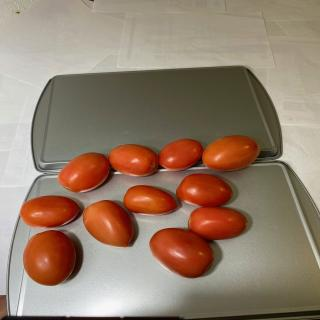Tomato: (149, 228, 215, 278), (23, 230, 76, 286), (83, 200, 134, 247), (57, 152, 110, 193), (202, 135, 260, 172), (188, 206, 248, 240), (176, 173, 233, 207), (20, 196, 80, 228), (123, 184, 177, 216), (108, 144, 159, 177), (158, 138, 203, 172)
